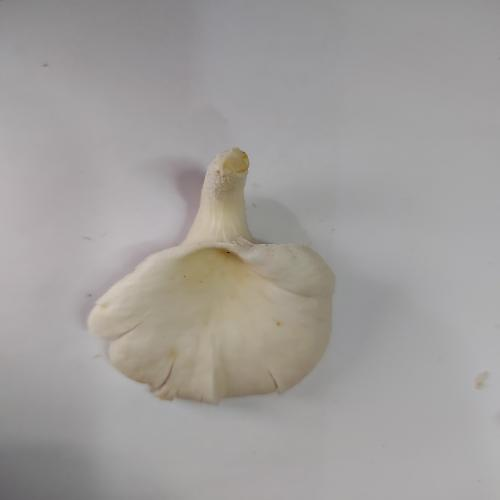Oyster Mushroom: (86, 146, 337, 405)
